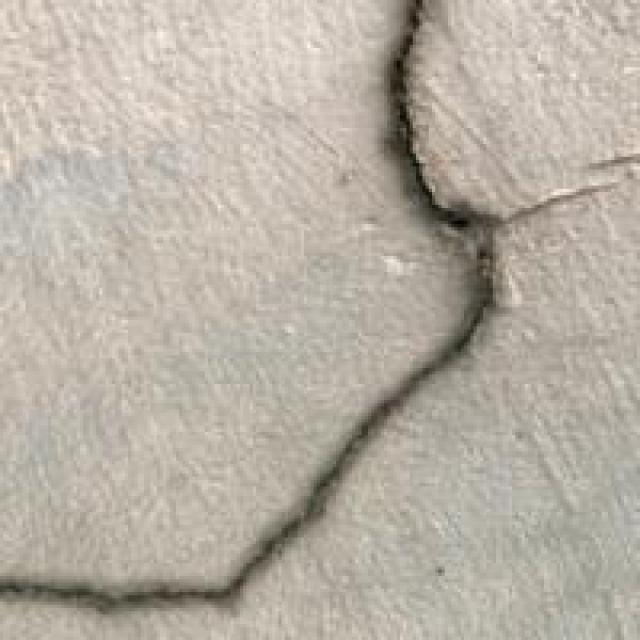crack: (6, 3, 518, 637)
